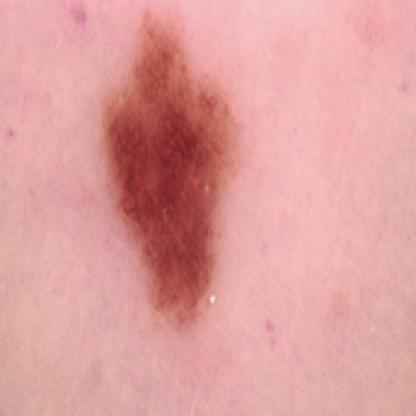benign: (89, 2, 243, 308)
